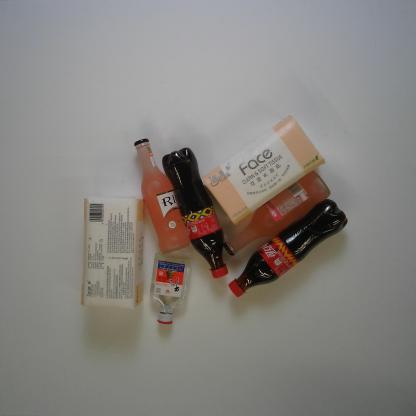Alcohol: (223, 170, 332, 258), (132, 136, 190, 254), (148, 251, 197, 326)
Drink: (227, 197, 350, 298), (160, 144, 230, 280)
Tissue: (202, 113, 325, 228), (76, 194, 148, 311)
